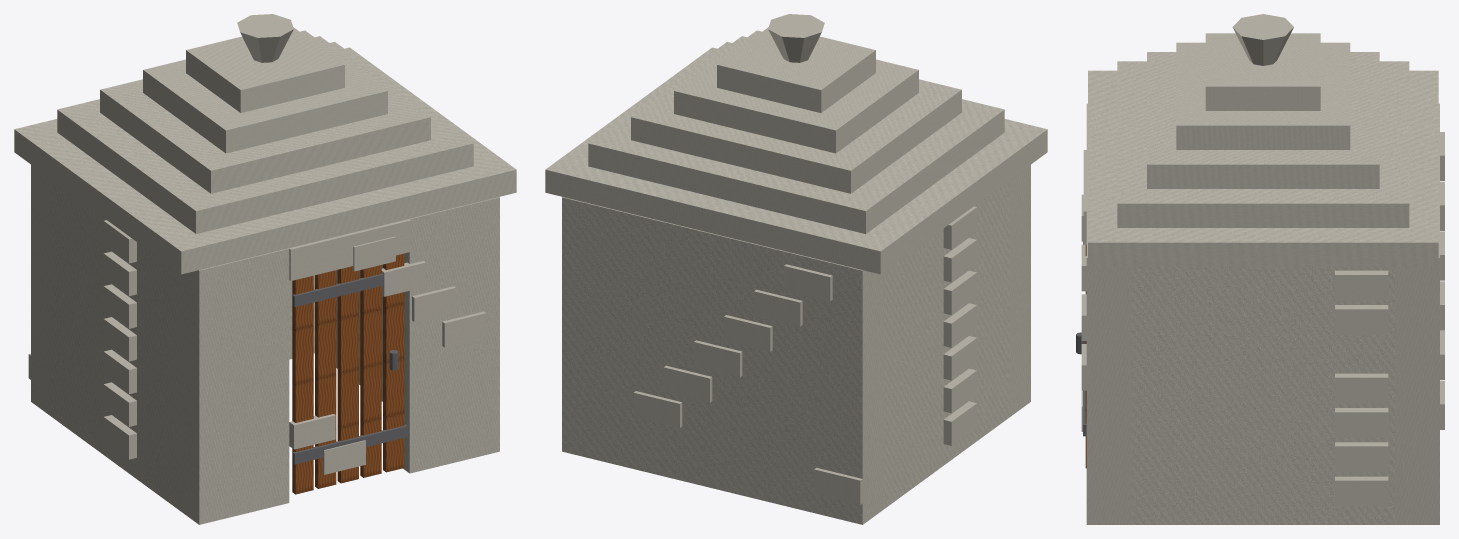
Rendered from stone-field-hut.glb.
The picture shows the model from 3 angles, left to right: view 1: azimuth 30°, elevation 25°; view 2: azimuth 150°, elevation 25°; view 3: azimuth 270°, elevation 25°; orthographic projection. The views are drawn at different scales.
Parts seen in each view (by area): view 1: stone-field-hut-stone, door/timber, door/dark; view 2: stone-field-hut-stone; view 3: stone-field-hut-stone.
Part boxes in pixels (bbox=[...]): stone-field-hut-stone: bbox=[14, 14, 516, 524]; door/timber: bbox=[292, 253, 404, 494]; door/dark: bbox=[292, 273, 407, 464]; stone-field-hut-stone: bbox=[545, 14, 1047, 524]; stone-field-hut-stone: bbox=[1081, 14, 1444, 524].
Bounding box in the file's own units: 2.9 × 3.31 × 2.63.
Materials: 3 (2 with a texture image).
